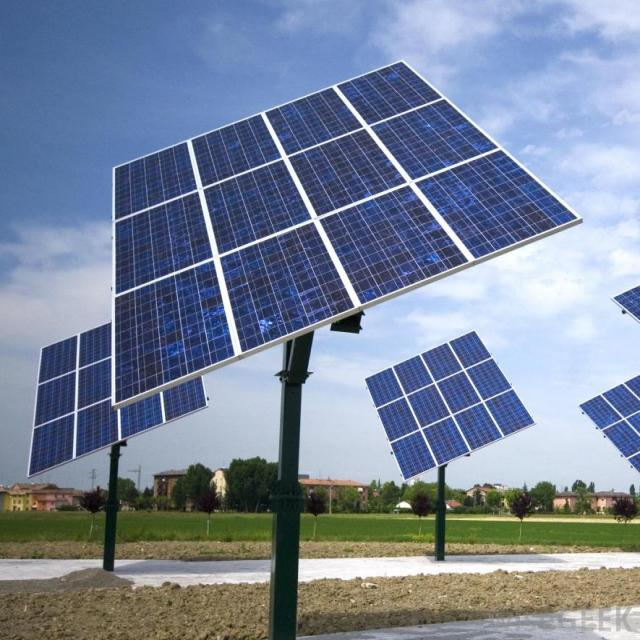clean-solar-panel: (112, 62, 580, 405), (366, 332, 534, 480)
